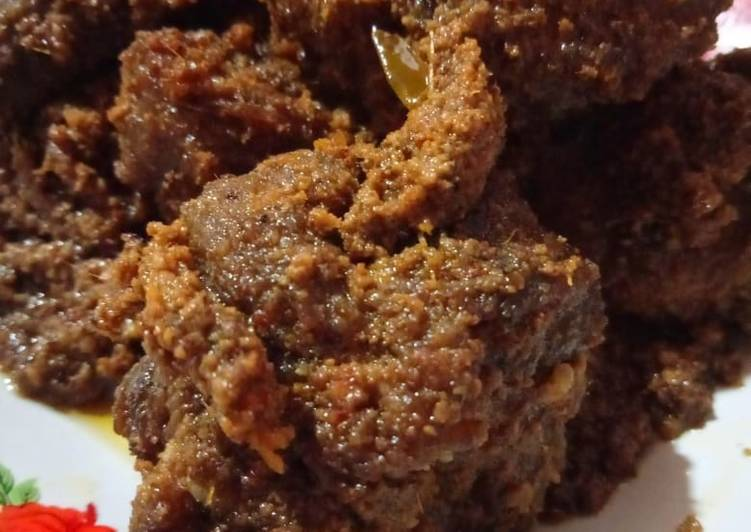rendang: (16, 7, 700, 511)
